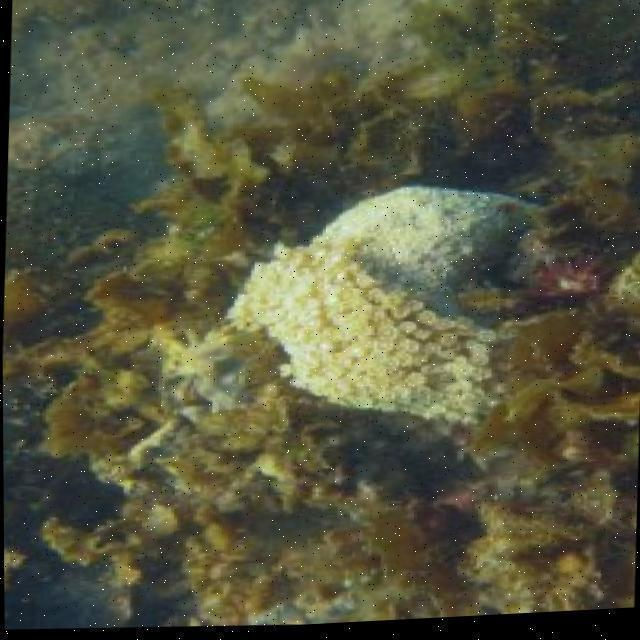Bleached Coral: (179, 183, 544, 450)
